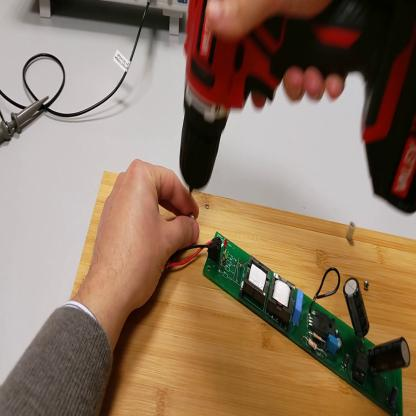electric screwdriver: (180, 1, 416, 216)
hand: (91, 160, 202, 313), (201, 1, 349, 110)
high voltage board: (169, 229, 411, 416)
oscilloscope: (33, 2, 187, 39)
oscilloscope probe tip: (2, 89, 51, 149)
working area: (71, 173, 416, 416)
